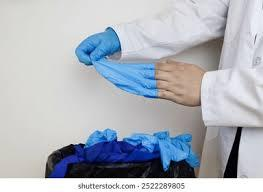Glove: (75, 28, 120, 64)
